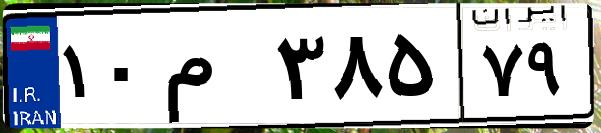0: (110, 28, 158, 98)
1: (57, 26, 110, 100)
3: (270, 28, 330, 110)
5: (385, 28, 445, 110)
7: (475, 38, 525, 113)
8: (330, 28, 385, 110)
9: (525, 38, 570, 115)
م: (158, 20, 270, 120)
